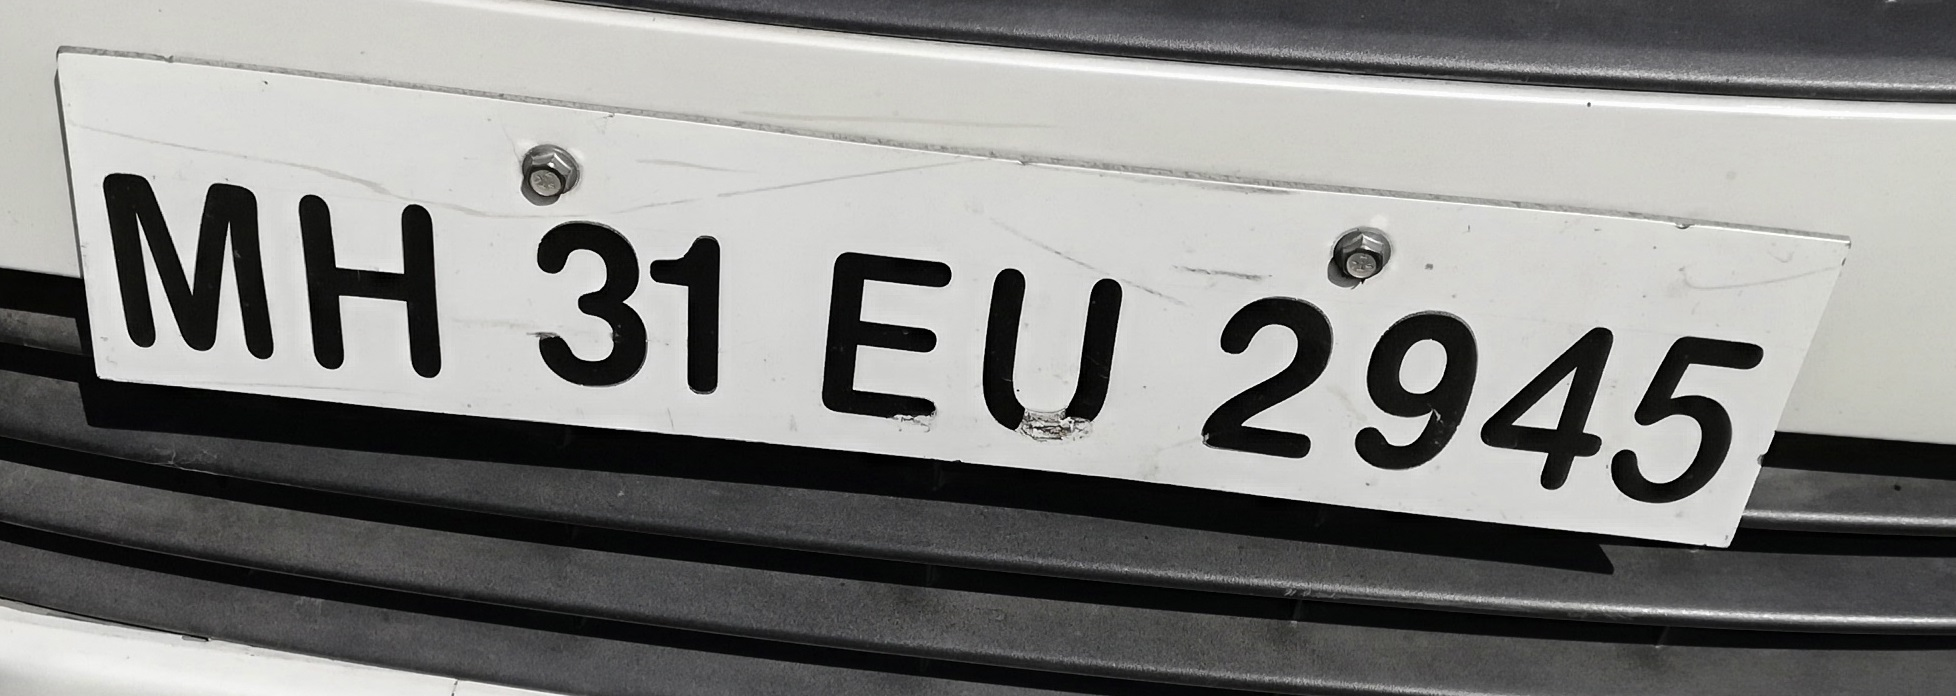numberplate: (44, 34, 1855, 556)
